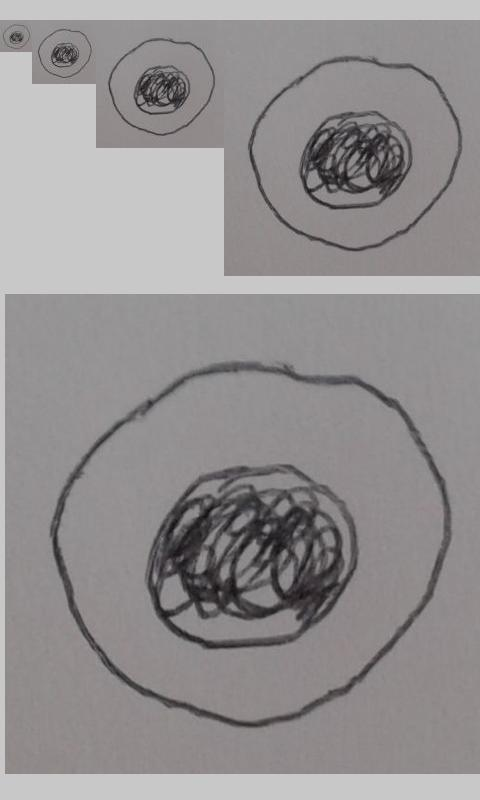radio_button: (45, 359, 454, 730), (246, 53, 464, 253), (107, 37, 217, 137), (37, 28, 93, 79), (2, 24, 31, 50)
